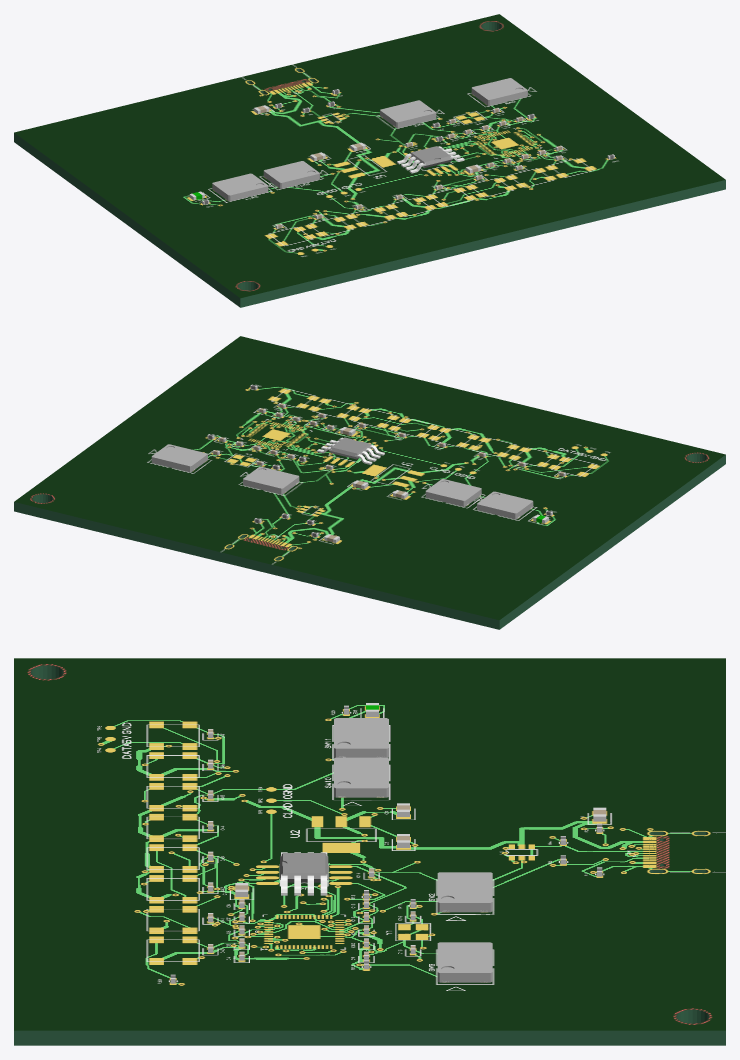
The picture shows the model from 3 angles, top to bottom: view 1: azimuth 30°, elevation 25°; view 2: azimuth 150°, elevation 25°; view 3: azimuth 270°, elevation 25°; orthographic projection. The views are drawn at different scales.
Visible parts, largest first — view 1: Box0, SW2, SW11, SW3, SW10, U4; view 2: Box0, SW2, SW11, SW3, SW10, U4; view 3: Box0, SW2, SW3, SW10, SW11, U4.
Part boxes in pixels (<box>): Box0: <box>14,14,725,307</box>; SW2: <box>380,100,436,128</box>; SW11: <box>212,173,268,201</box>; SW3: <box>471,78,527,105</box>; SW10: <box>263,161,319,188</box>; U4: <box>397,146,464,173</box>; Box0: <box>14,336,725,629</box>; SW2: <box>243,466,299,494</box>; SW11: <box>477,491,533,519</box>; SW3: <box>151,444,207,472</box>; SW10: <box>425,479,481,506</box>; U4: <box>317,437,384,464</box>; Box0: <box>14,658,725,1045</box>; SW2: <box>437,872,492,912</box>; SW3: <box>437,942,492,982</box>; SW10: <box>334,757,388,797</box>; SW11: <box>334,718,388,757</box>; U4: <box>280,852,328,895</box>.
Size of the model in its own units: 84.9 by 2.88 by 68.6.
10 materials, 2 textured.
